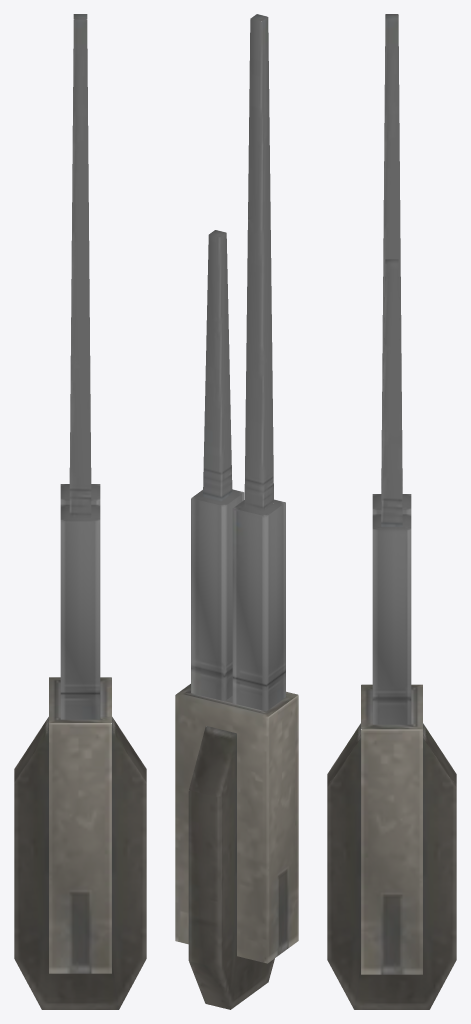
File: Part - Detail 02-DavkrrXa.glb
3 views of the same model, side by side, from view 1: azimuth 90°, elevation 25°; view 2: azimuth 150°, elevation 25°; view 3: azimuth 270°, elevation 25° (orthographic). The views are drawn at different scales.
Visible parts, largest first — view 1: Detail_02, Detail_02_long, Detail_02_shor; view 2: Detail_02, Detail_02_long, Detail_02_shor; view 3: Detail_02, Detail_02_shor, Detail_02_long.
Boxes of the visible parts, x1,y1,x2,y2 form: Detail_02: (14,677,146,1009); Detail_02_long: (60,14,100,719); Detail_02_shor: (60,468,100,504); Detail_02: (175,684,298,1009); Detail_02_long: (232,14,285,711); Detail_02_shor: (191,230,244,701); Detail_02: (327,684,456,1009); Detail_02_shor: (372,259,411,724); Detail_02_long: (372,14,411,514).
Bounding box in the file's own units: 0.2726 × 2.77 × 0.3334.
1 material, 1 textured.
